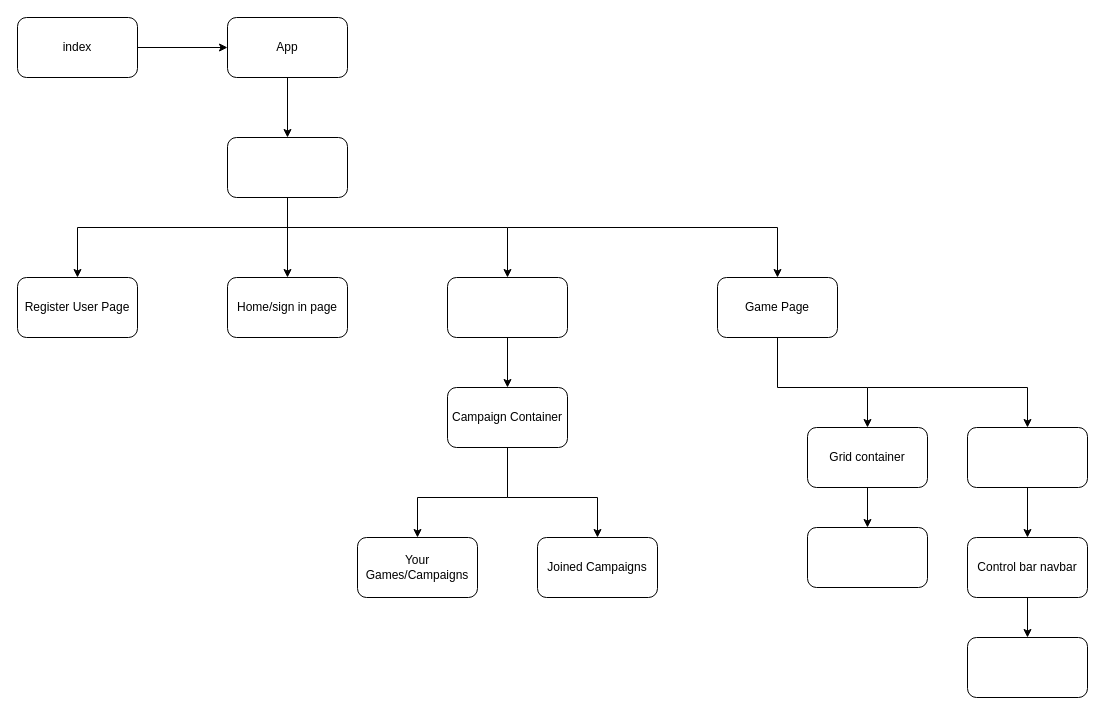
The diagram is 1105 pixels wide and 715 high, and some of its shapes have lost their labels. The centre of each missing label's shape, as x and y in pixels:
Control bar buttons: point (1027, 667)
Current Games/Campaigns (need authentication): point (507, 307)
Guide/Control bar: point (1027, 457)
individual grid: point (867, 557)
Nav bar: point (287, 167)
